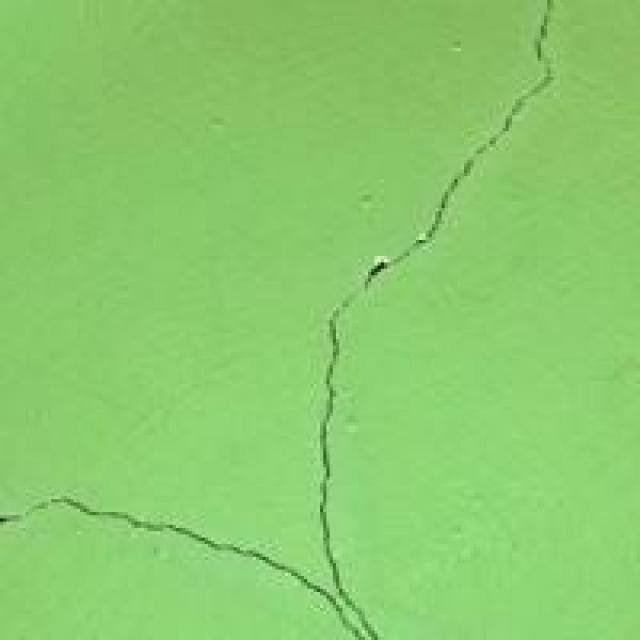crack: (3, 26, 541, 636)
